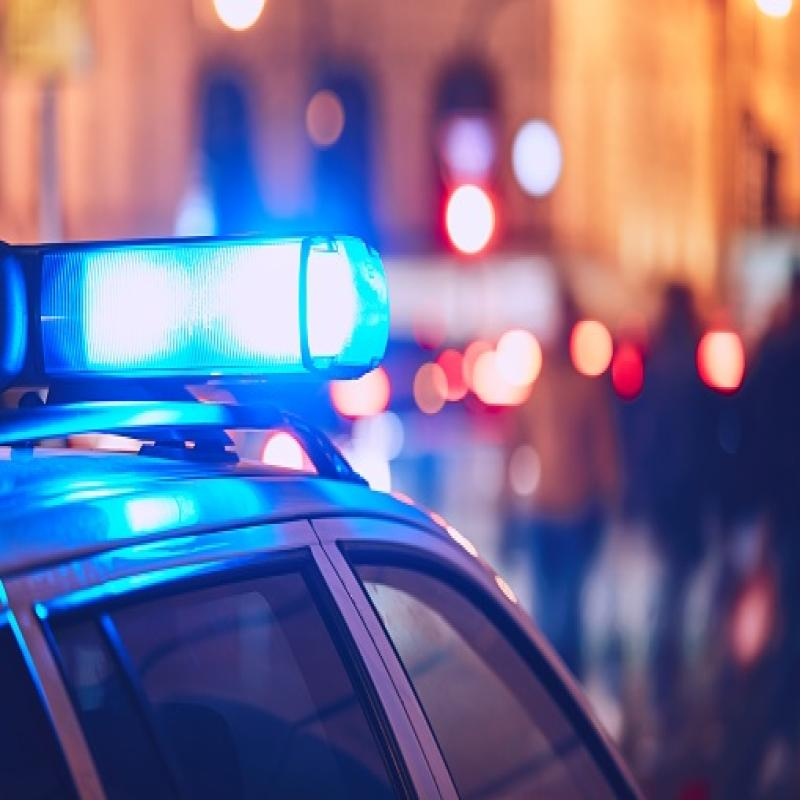AmbulanceSiren: (0, 193, 402, 431)
